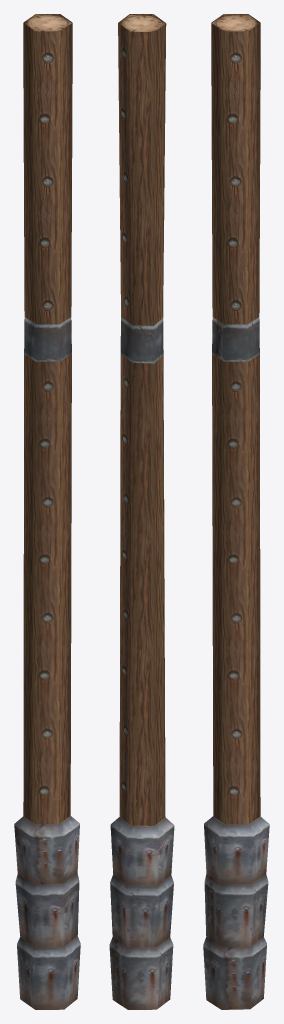
Rendered from excavationbarrierpole04.obj.
The picture shows the model from 3 angles, left to right: view 1: azimuth 90°, elevation 25°; view 2: azimuth 210°, elevation 25°; view 3: azimuth 270°, elevation 25°; orthographic projection.
Visible parts, largest first — view 1: Geoset1, Geoset0, Geoset3, Geoset2; view 2: Geoset1, Geoset0, Geoset3, Geoset2; view 3: Geoset1, Geoset0, Geoset3, Geoset2.
Boxes of the visible parts, <box> form: Geoset1: <box>23,14,72,824</box>; Geoset0: <box>14,816,80,1009</box>; Geoset3: <box>24,317,71,361</box>; Geoset2: <box>24,15,71,31</box>; Geoset1: <box>118,14,166,825</box>; Geoset0: <box>109,817,174,1009</box>; Geoset3: <box>120,317,163,363</box>; Geoset2: <box>119,15,165,31</box>; Geoset1: <box>211,14,260,824</box>; Geoset0: <box>203,816,269,1009</box>; Geoset3: <box>212,317,259,361</box>; Geoset2: <box>212,15,259,31</box>.
Size of the model in its own units: 2.35 by 44.85 by 2.77.
4 materials, 4 textured.
